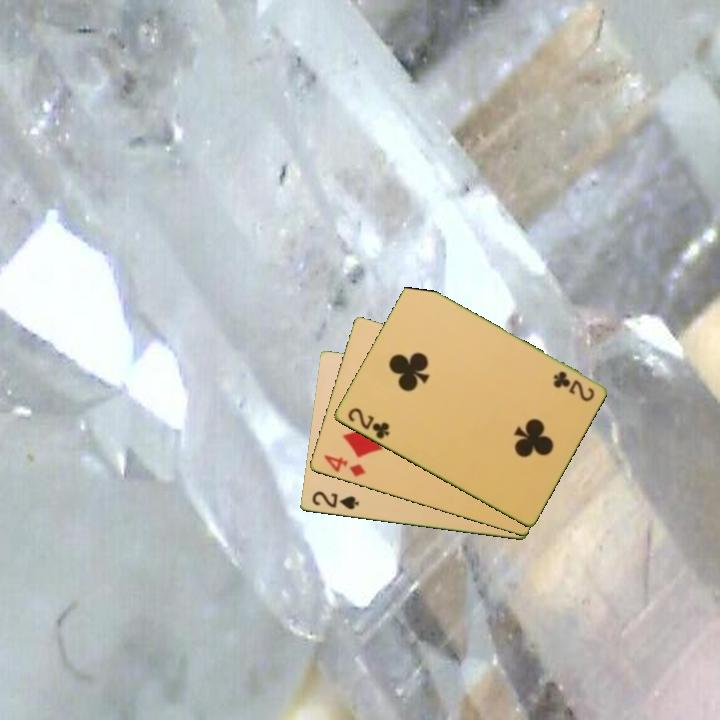2c: (344, 404, 392, 442), (549, 367, 597, 405)
2s: (308, 488, 362, 513)
4d: (320, 451, 368, 480)
